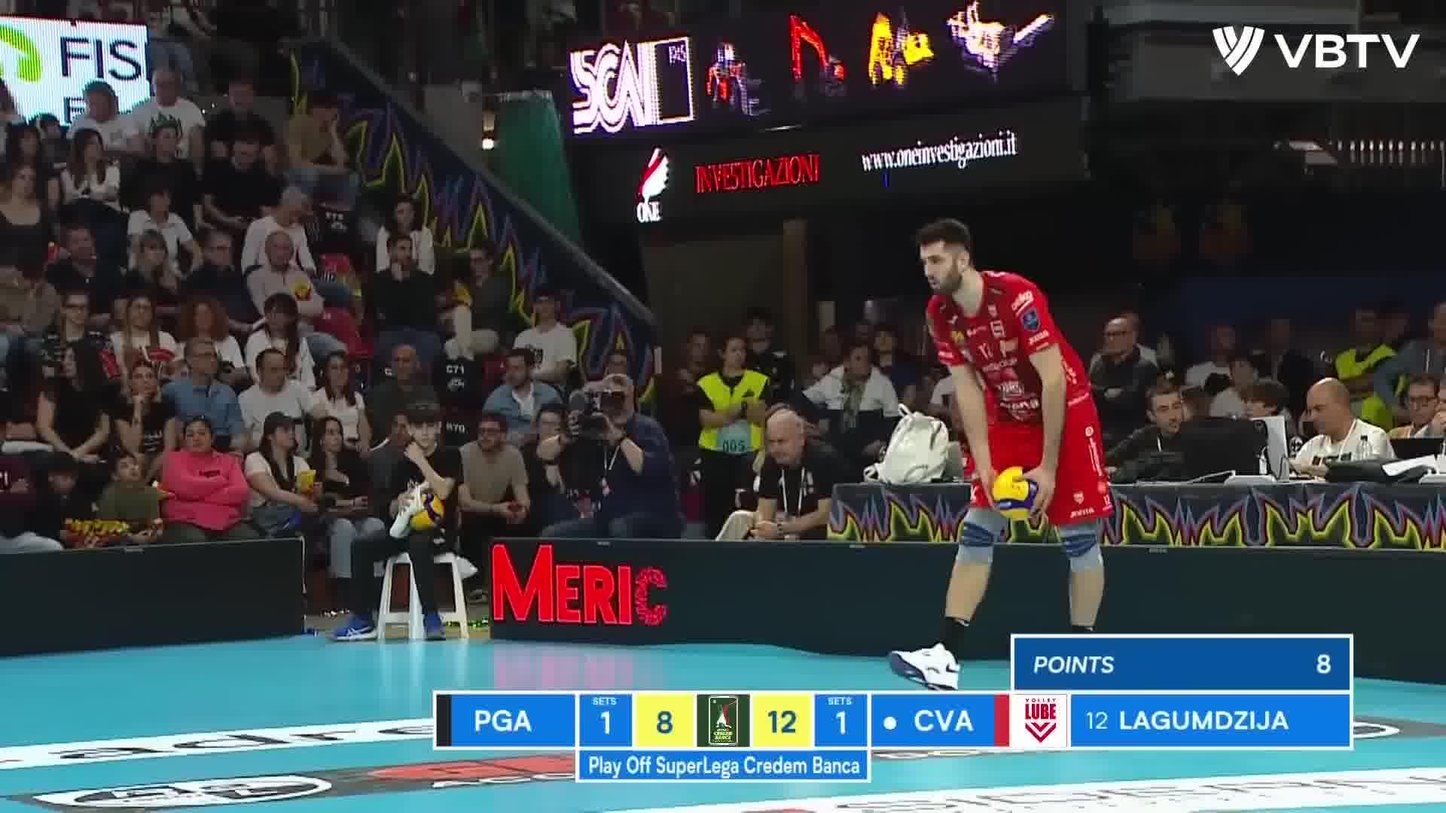balls: (987, 464, 1052, 526)
